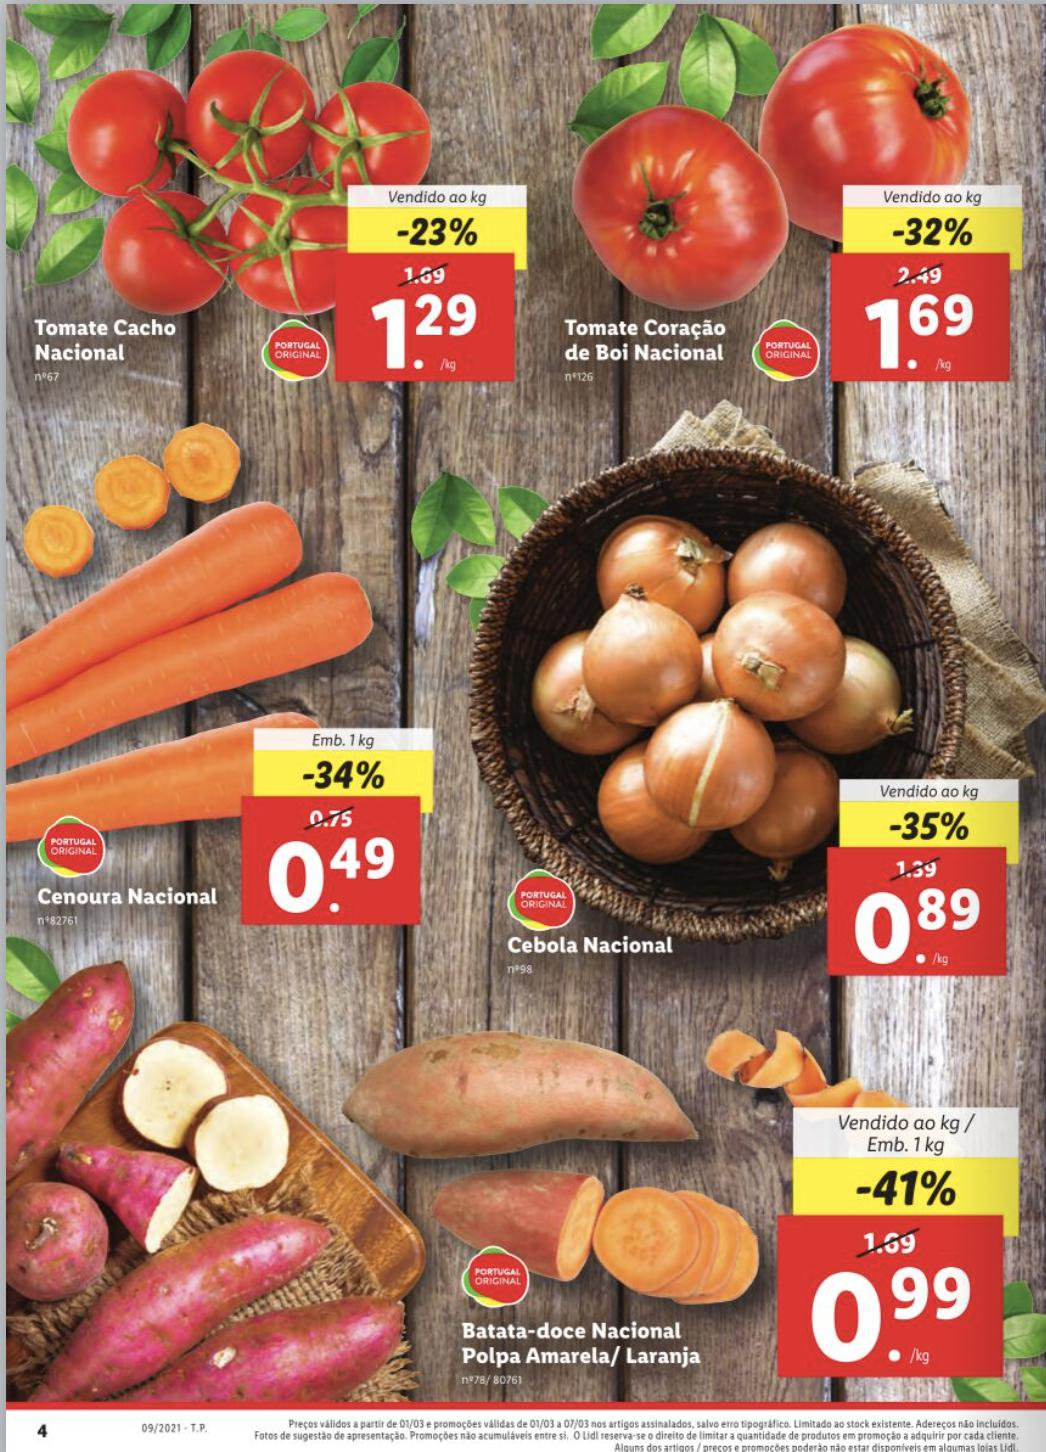name: (447, 1320, 717, 1376), (559, 316, 735, 368), (28, 318, 184, 369), (26, 883, 224, 917), (504, 930, 683, 965)
price: (808, 1261, 977, 1381), (850, 883, 990, 976), (259, 832, 401, 923), (856, 283, 990, 378), (357, 289, 488, 380)
product: (490, 425, 1026, 994), (401, 1029, 1028, 1398), (5, 496, 452, 954), (541, 25, 1039, 405), (10, 67, 541, 405)
promotion: (843, 1160, 963, 1216), (295, 750, 388, 798), (388, 210, 486, 254), (881, 212, 983, 254), (883, 807, 975, 850)
